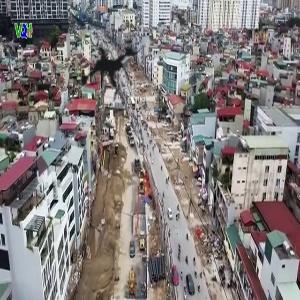drone: (52, 7, 177, 132)
